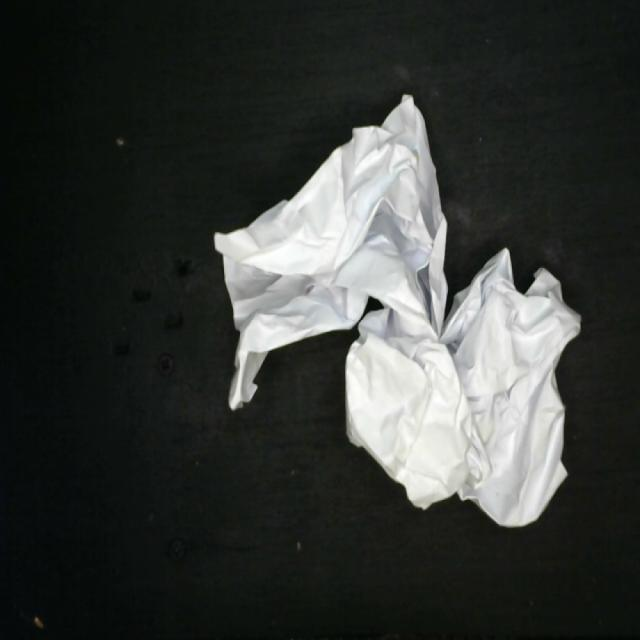biodegradable: (208, 89, 588, 538)
